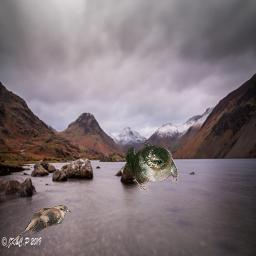Cuckoo: (5, 205, 71, 248)
Swallow: (119, 141, 179, 194)
